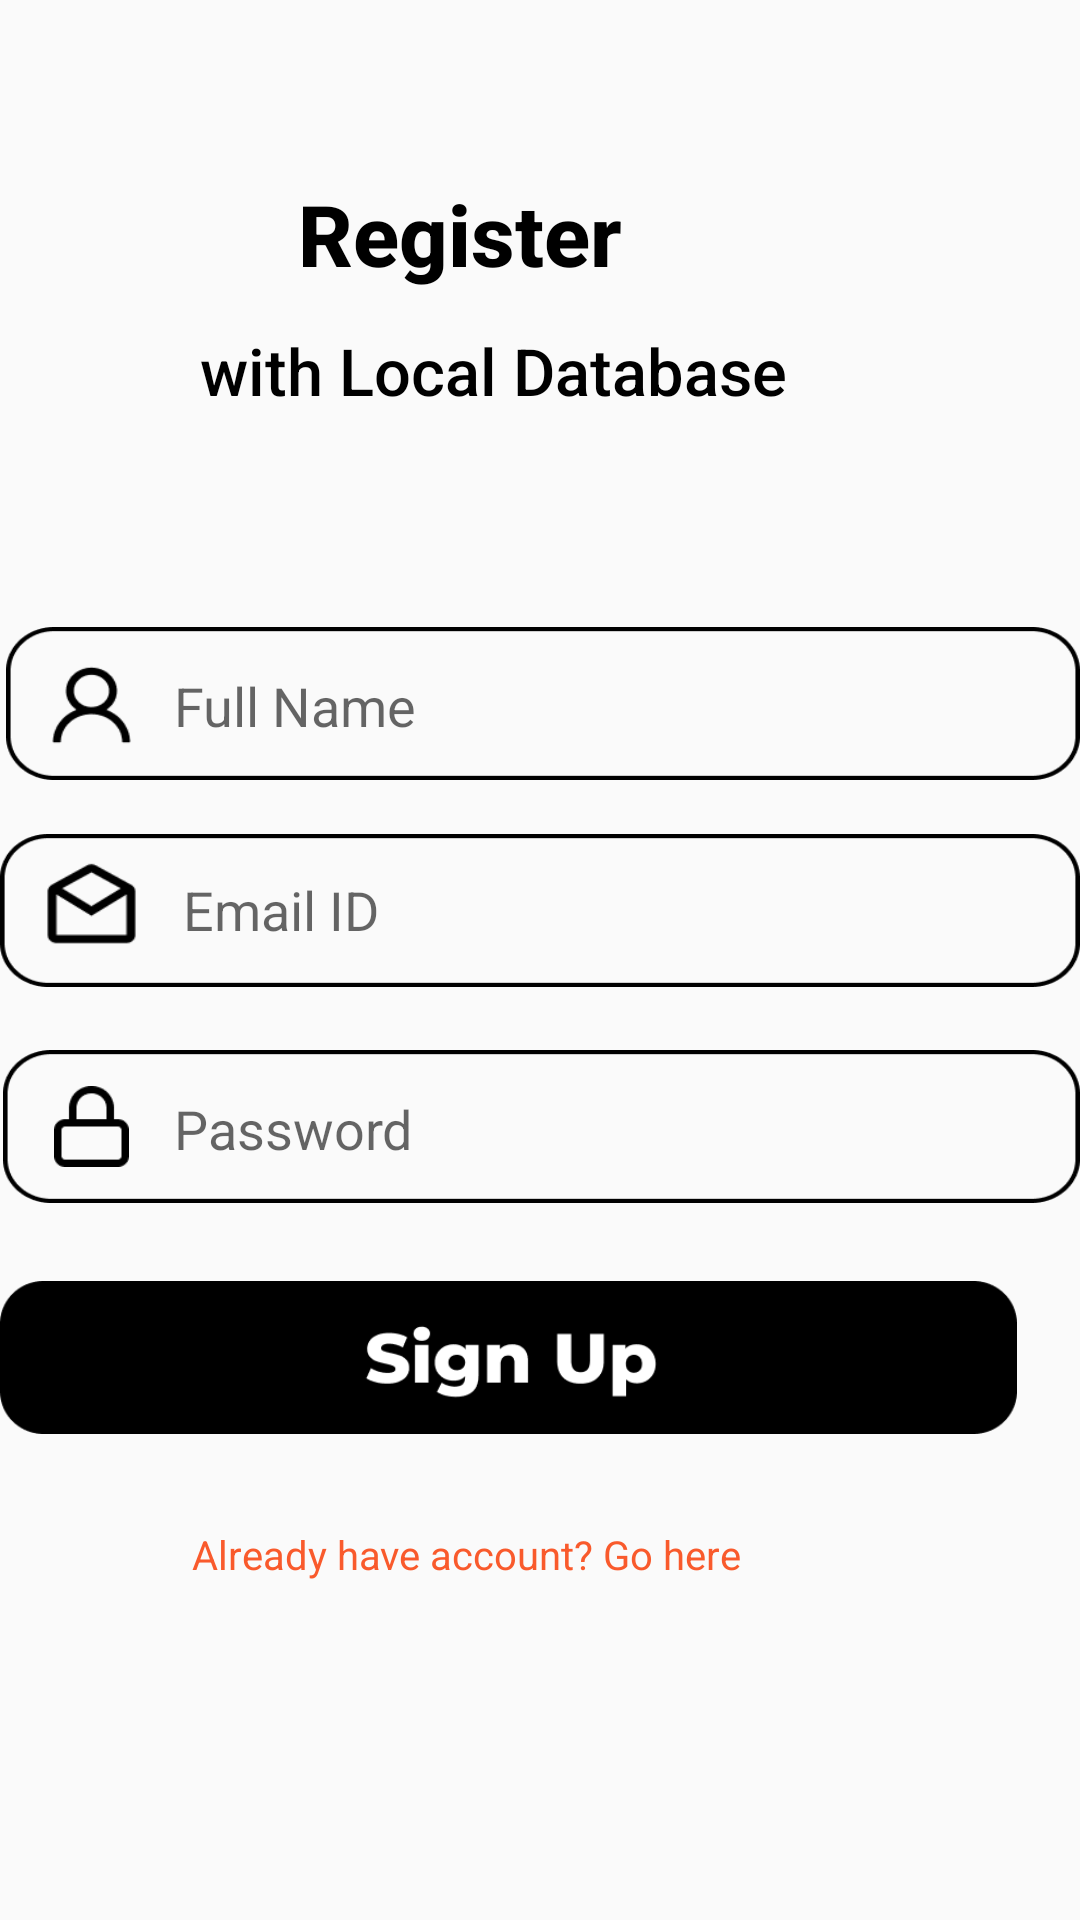

Screen size 1080x1920. Icon name, then its center in pixels as (x=x, y=y):
user: (x=91, y=705)
